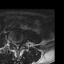CCS_normal: (16, 42, 18, 50)
LFS_severe_stenosis: (20, 41, 22, 47)
LLS_severe_stenosis: (18, 42, 20, 48)
RFS_severe_stenosis: (12, 41, 15, 46)
RLS_severe_stenosis: (15, 42, 16, 48)
